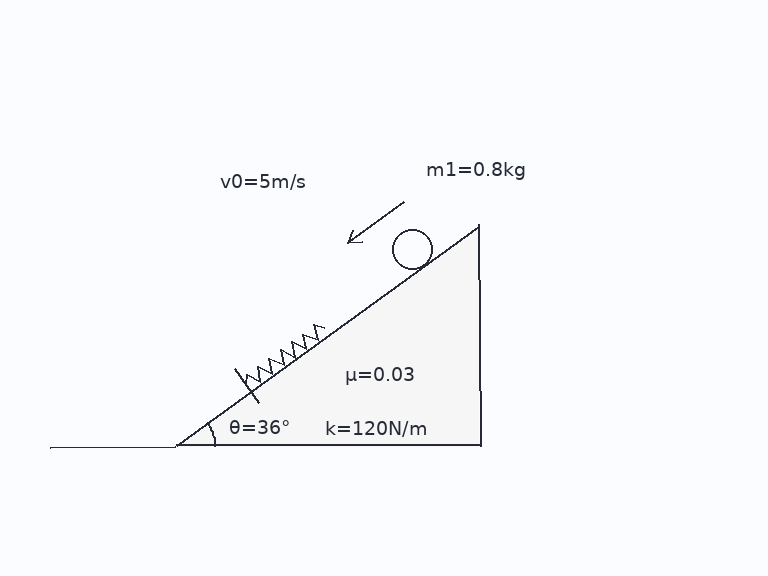ball: (390, 227, 434, 271)
ramp: (173, 224, 480, 448)
spring: (244, 323, 326, 386)
